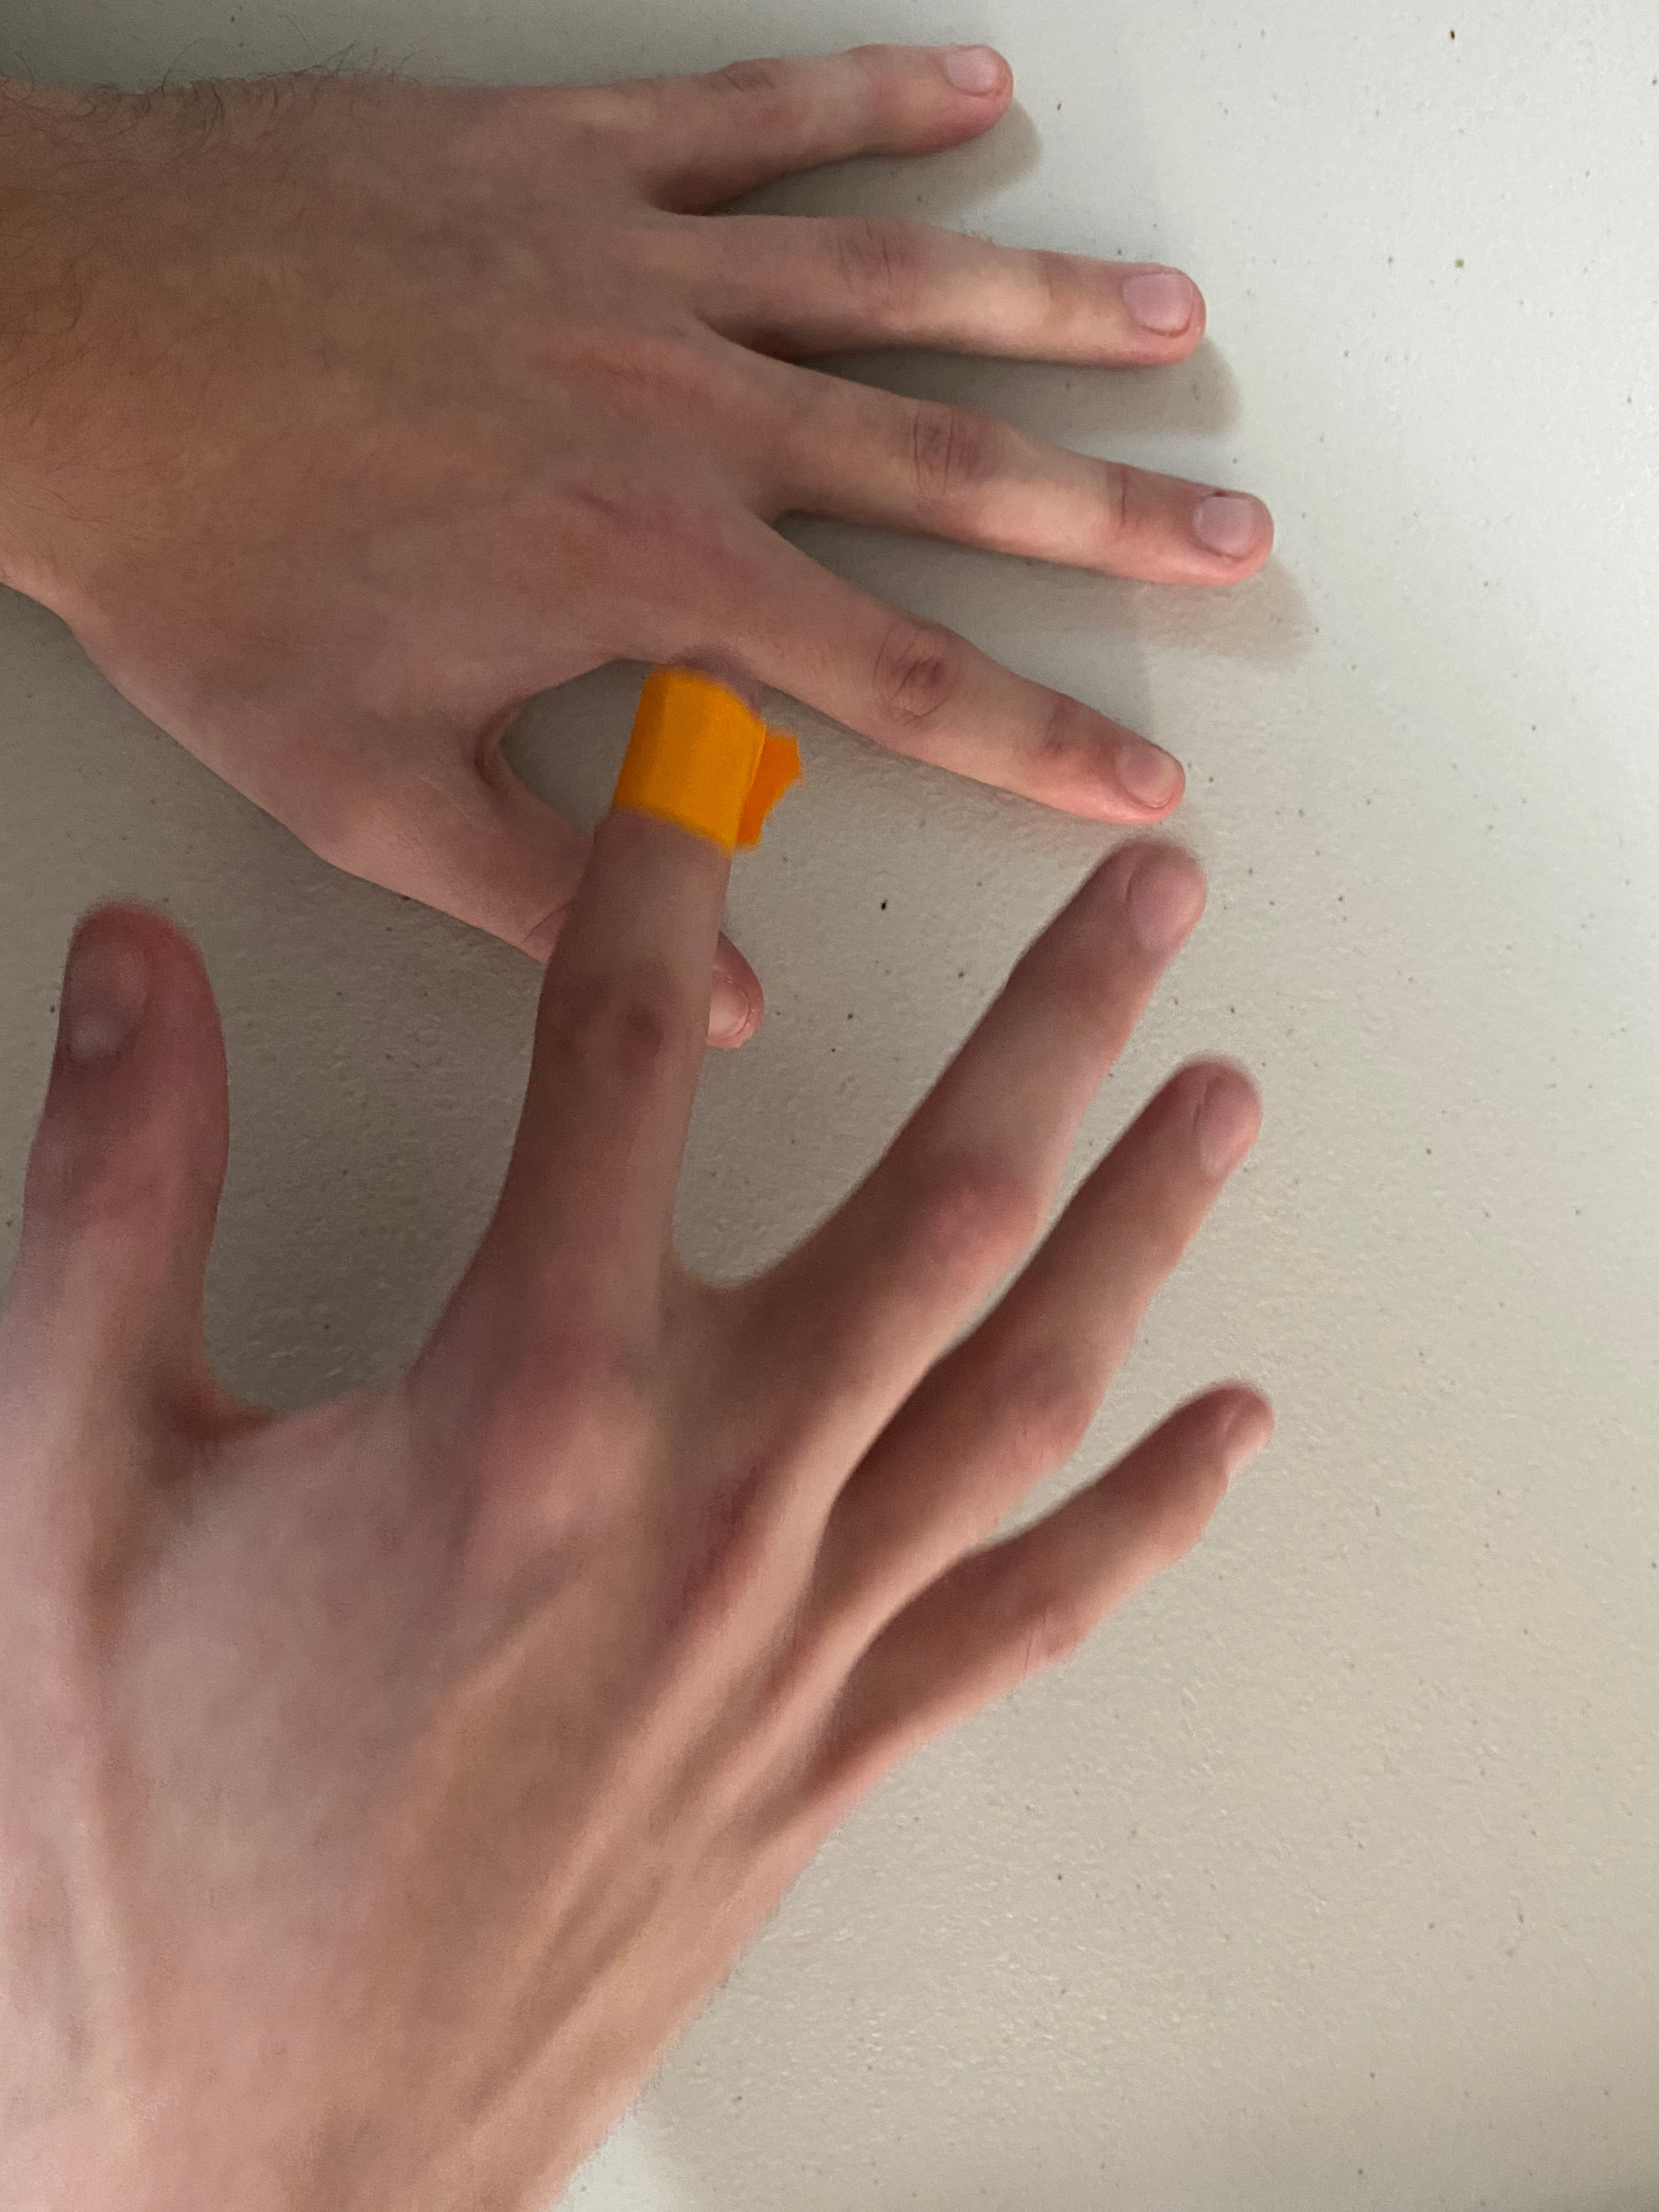fingertip: (577, 629, 835, 895)
